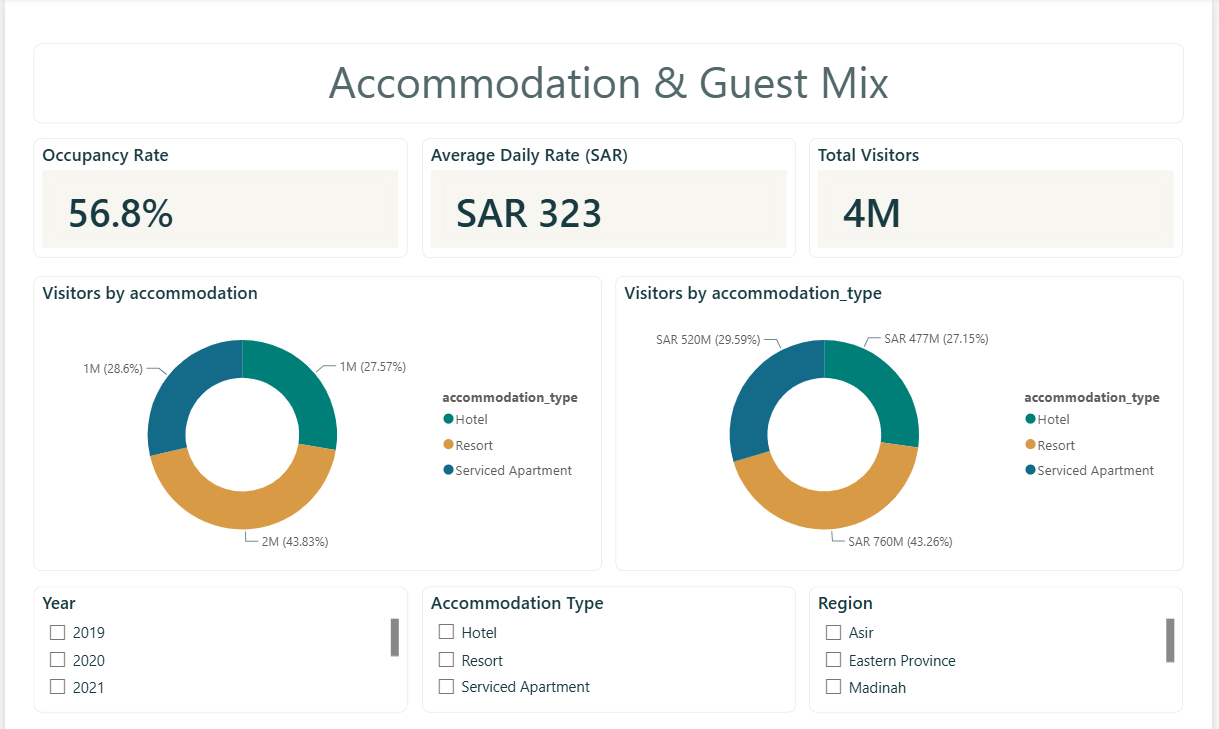

This screenshot's page, from the dashboard's own definition file:
{"tool":"powerbi","page":{"name":"Accommodation & Guest Mix","canvas":[1200,720],"ordinal":3},"visuals":[{"type":"textbox","box":[28,17,1144,79],"z":1000},{"type":"cardVisual","title":"Occupancy Rate","fields":{"Data":["Tourism.Latest Year Occupancy"]},"box":[28,111,372,119],"z":1000},{"type":"cardVisual","title":"Average Daily Rate (SAR)","fields":{"Data":["Tourism.Latest Year ADR"]},"box":[414,111,372,119],"z":1000},{"type":"cardVisual","title":"Total Visitors","fields":{"Data":["Tourism.Latest Year Visitors"]},"box":[800,111,372,119],"z":1000},{"type":"donutChart","title":"Visitors by accommodation","fields":{"Category":["Tourism.accommodation_type"],"Y":["Tourism.Latest Year Visitors"]},"box":[28,247,565,293],"z":1000},{"type":"donutChart","title":"Visitors by accommodation_type","fields":{"Category":["Tourism.accommodation_type"],"Y":["Tourism.Latest Year Revenue"]},"box":[607,247,565,293],"z":1000},{"type":"slicer","title":"Year","fields":{"Values":["Tourism.Year"]},"box":[28,557,372,125],"z":1000},{"type":"slicer","title":"Accommodation Type","fields":{"Values":["Tourism.accommodation_type"]},"box":[414,557,372,125],"z":1000},{"type":"slicer","title":"Region","fields":{"Values":["Tourism.region"]},"box":[800,557,372,125],"z":1000}]}

Visuals, with their boxes in screenshot pixels (x1, y1, x2, y2), scaled from the page's 1200x720 canvas onto the 1219x729 screenshot:
textbox: {"left": 28, "top": 17, "right": 1191, "bottom": 97}
"Occupancy Rate" cardVisual: {"left": 28, "top": 112, "right": 406, "bottom": 233}
"Average Daily Rate (SAR)" cardVisual: {"left": 421, "top": 112, "right": 798, "bottom": 233}
"Total Visitors" cardVisual: {"left": 813, "top": 112, "right": 1191, "bottom": 233}
"Visitors by accommodation" donutChart: {"left": 28, "top": 250, "right": 602, "bottom": 547}
"Visitors by accommodation_type" donutChart: {"left": 617, "top": 250, "right": 1191, "bottom": 547}
"Year" slicer: {"left": 28, "top": 564, "right": 406, "bottom": 691}
"Accommodation Type" slicer: {"left": 421, "top": 564, "right": 798, "bottom": 691}
"Region" slicer: {"left": 813, "top": 564, "right": 1191, "bottom": 691}
